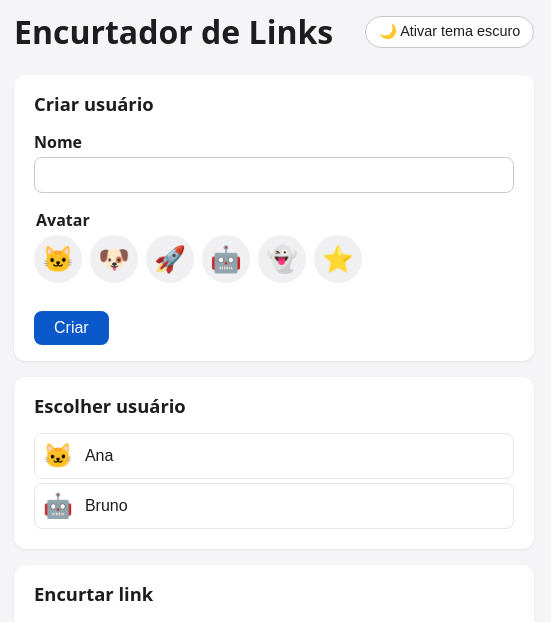
Scenario: App — criar e escolher usuário › escolher um usuário grava o id no localStorage
expect the text "Ana" is shown: met, box [85,447,113,464]
Click the button "🤖 Bruno" at [106, 506], box [34,483,514,529]
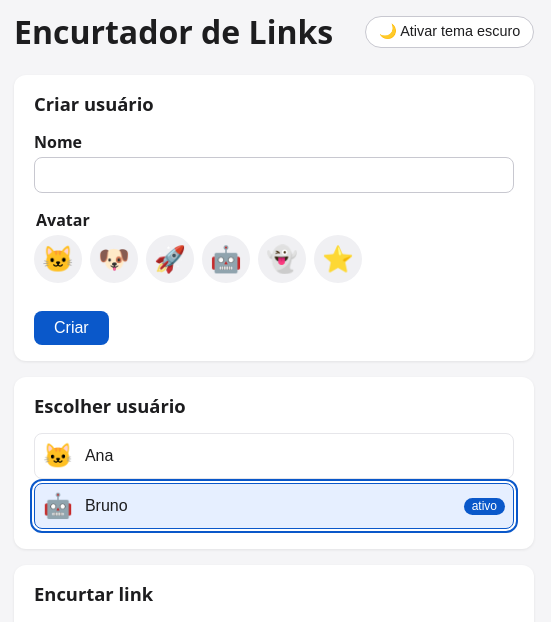
expect the button "🤖 Bruno ativo" is pressed: met, box [34,483,514,529]
